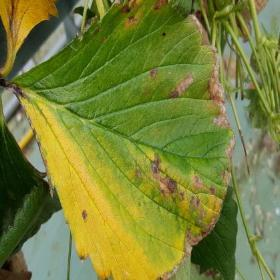Angular Leafspot: (8, 0, 235, 279)
